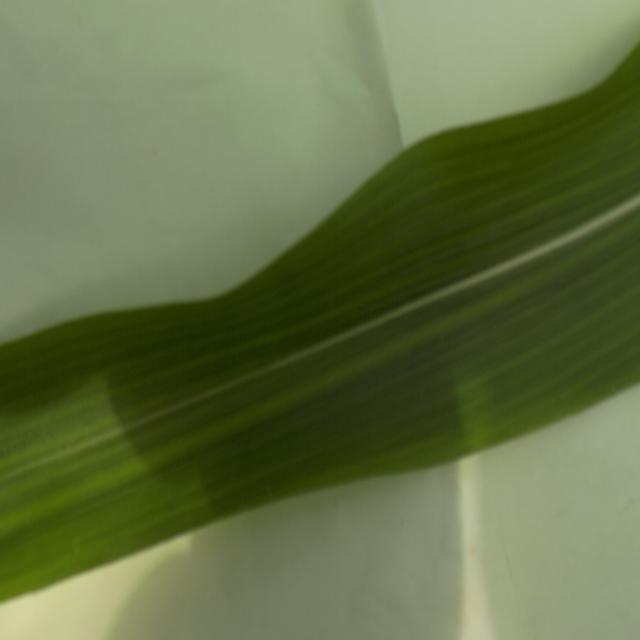millet_healthy: (0, 45, 640, 600)
